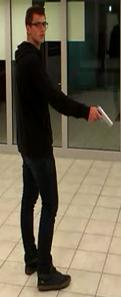pistol: (91, 104, 113, 128)
